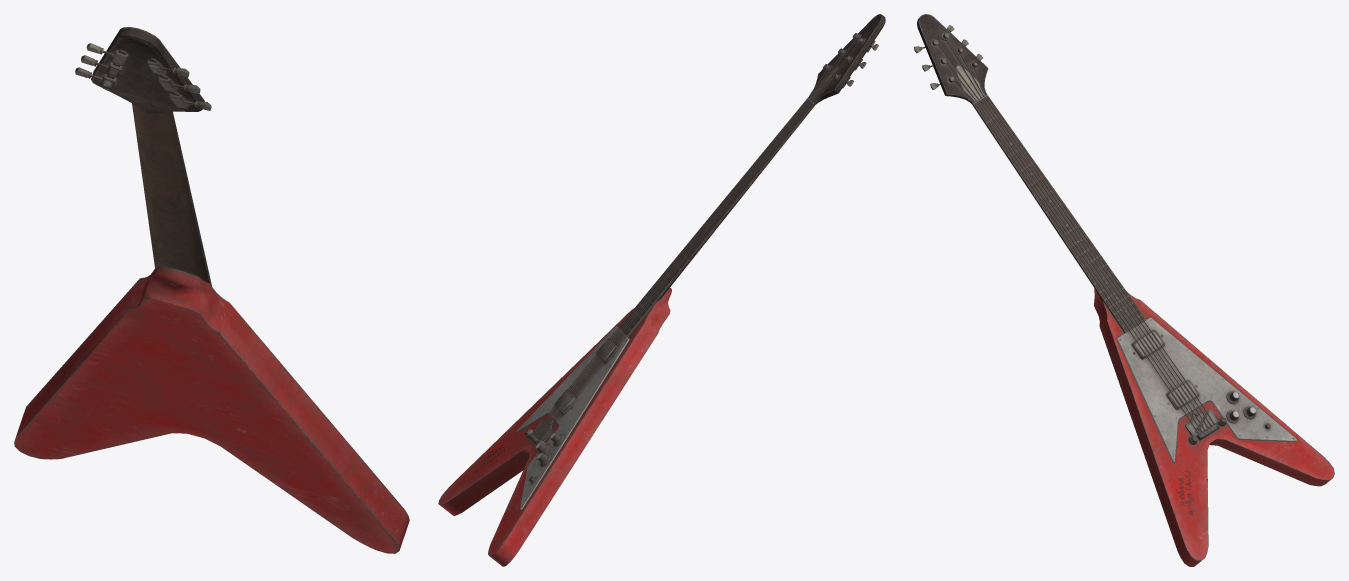
The model's file is guitar.fbx.
The picture shows the model from 3 angles, left to right: view 1: azimuth 30°, elevation 25°; view 2: azimuth 150°, elevation 25°; view 3: azimuth 270°, elevation 25°; orthographic projection. The views are drawn at different scales.
Visible parts, largest first — view 1: Плоскость, Окружность.001; view 2: Плоскость, Плоскость.005, Плоскость.001, Окружность.001; view 3: Плоскость, Плоскость.001, Плоскость.005, Окружность.001.
Part boxes in pixels (left/top/right/bottom): Плоскость: left=14, top=27, right=409, bottom=553; Окружность.001: left=75, top=43, right=211, bottom=110; Плоскость: left=438, top=14, right=885, bottom=566; Плоскость.005: left=533, top=38, right=871, bottom=440; Плоскость.001: left=515, top=326, right=629, bottom=510; Окружность.001: left=528, top=33, right=878, bottom=482; Плоскость: left=917, top=14, right=1334, bottom=566; Плоскость.001: left=1117, top=317, right=1297, bottom=462; Плоскость.005: left=922, top=38, right=1214, bottom=434; Окружность.001: left=914, top=25, right=1270, bottom=440.
Size of the model in its own units: 269 by 388 by 348.
